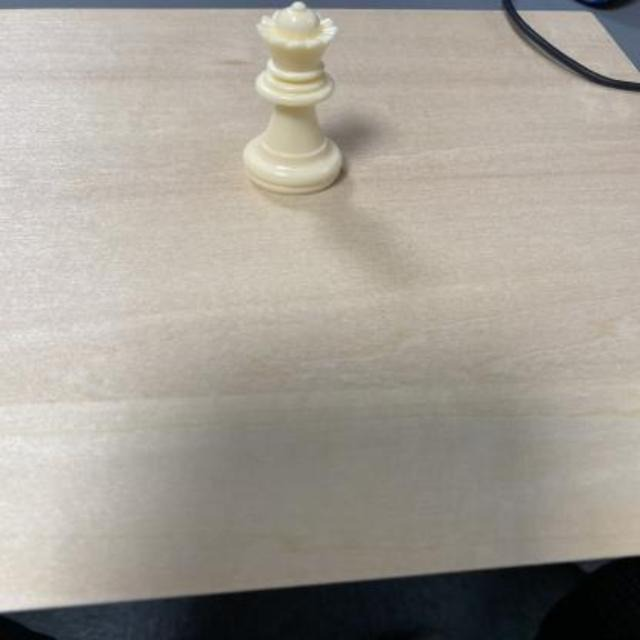white-queen: (241, 2, 342, 194)
